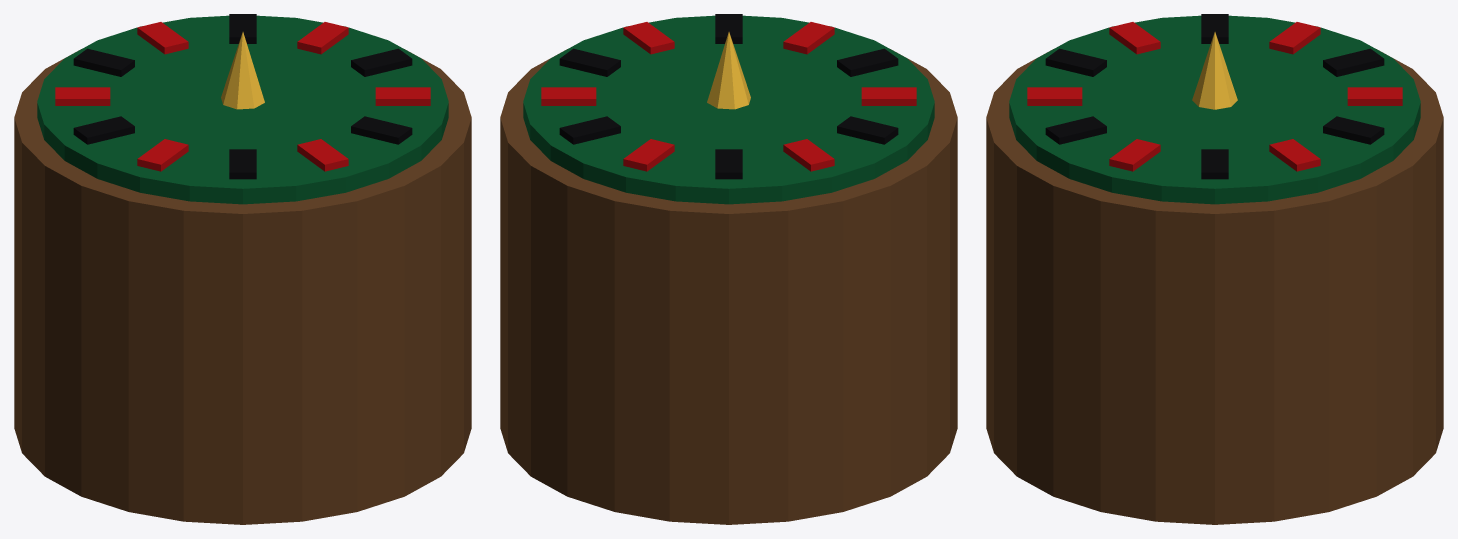
The model's file is Prop_OR_Roulette_04.glb.
The picture shows the model from 3 angles, left to right: view 1: azimuth 30°, elevation 25°; view 2: azimuth 150°, elevation 25°; view 3: azimuth 270°, elevation 25°; orthographic projection.
Parts seen in each view (by area): view 1: Prop_OR_Roulette_04; view 2: Prop_OR_Roulette_04; view 3: Prop_OR_Roulette_04.
Part boxes in pixels (left/top/right/bottom): Prop_OR_Roulette_04: left=14, top=14, right=471, bottom=524; Prop_OR_Roulette_04: left=500, top=14, right=957, bottom=524; Prop_OR_Roulette_04: left=986, top=14, right=1443, bottom=524.
Bounding box in the file's own units: 1.2 × 1.15 × 1.2.
